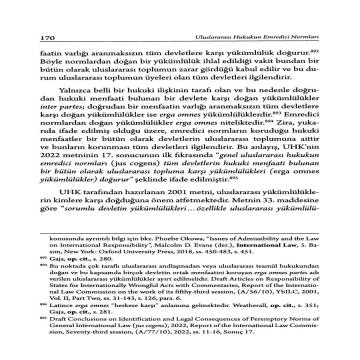footer: (46, 234, 325, 336)
header: (192, 33, 321, 40)
